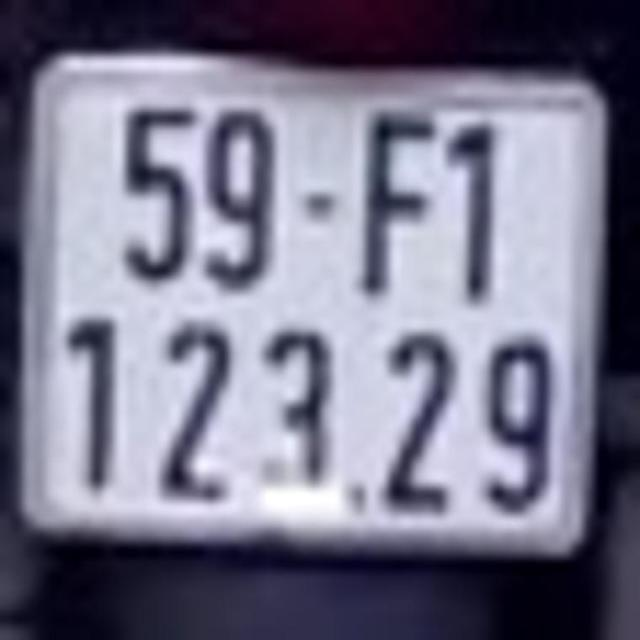1: (63, 312, 121, 496), (446, 112, 500, 304)
2: (380, 322, 456, 516), (157, 315, 234, 503)
3: (257, 321, 333, 514)
5: (118, 100, 196, 281)
9: (480, 324, 557, 518), (202, 100, 276, 292)
F: (360, 106, 438, 296)
